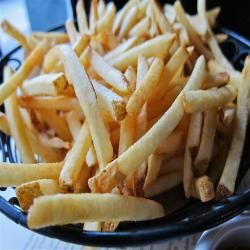fries: (13, 19, 217, 197)
